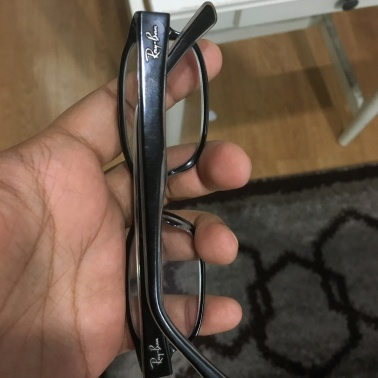glasses: (109, 4, 226, 362)
